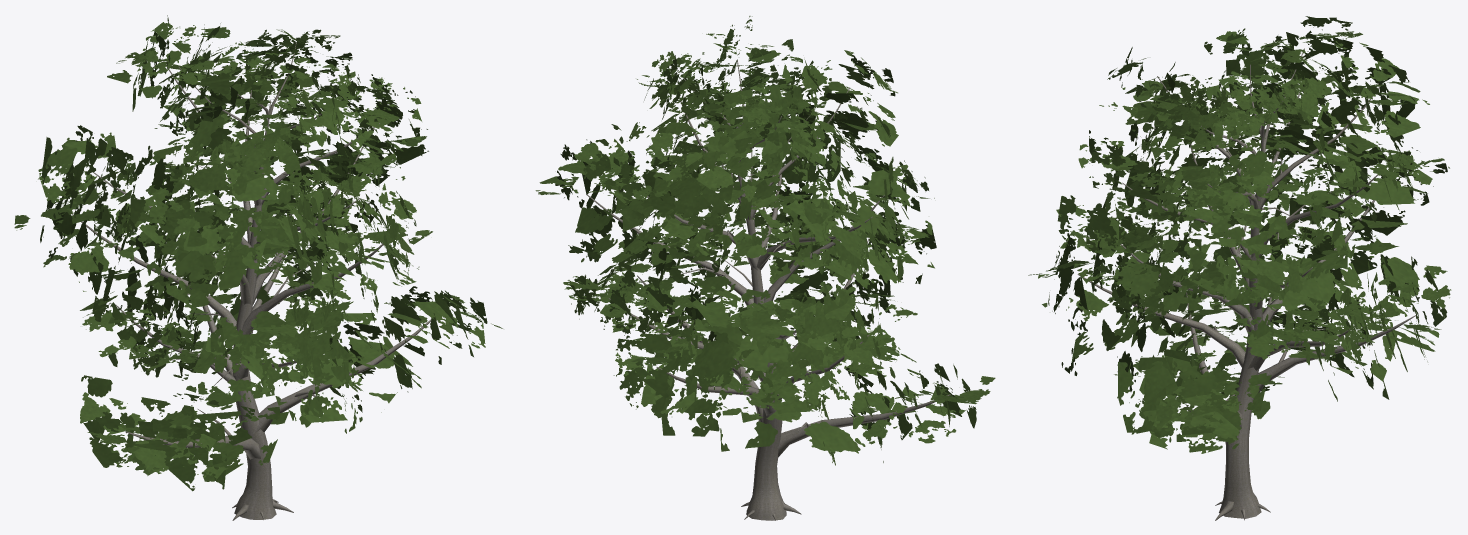
The model's file is HeroWhiteOakLOD0.fbx.
3 views of the same model, side by side, from view 1: azimuth 30°, elevation 25°; view 2: azimuth 150°, elevation 25°; view 3: azimuth 270°, elevation 25° (orthographic).
Visible parts, largest first — view 1: Foliage, Bark; view 2: Foliage, Bark; view 3: Foliage, Bark.
Part boxes in pixels (x1,y1,x2,y2): Foliage: [14, 15, 502, 491]; Bark: [72, 43, 431, 520]; Foliage: [535, 16, 995, 465]; Bark: [587, 60, 950, 520]; Foliage: [1028, 16, 1451, 453]; Bark: [1077, 48, 1415, 520].
Size of the model in its own units: 21.75 by 23.96 by 19.64.
